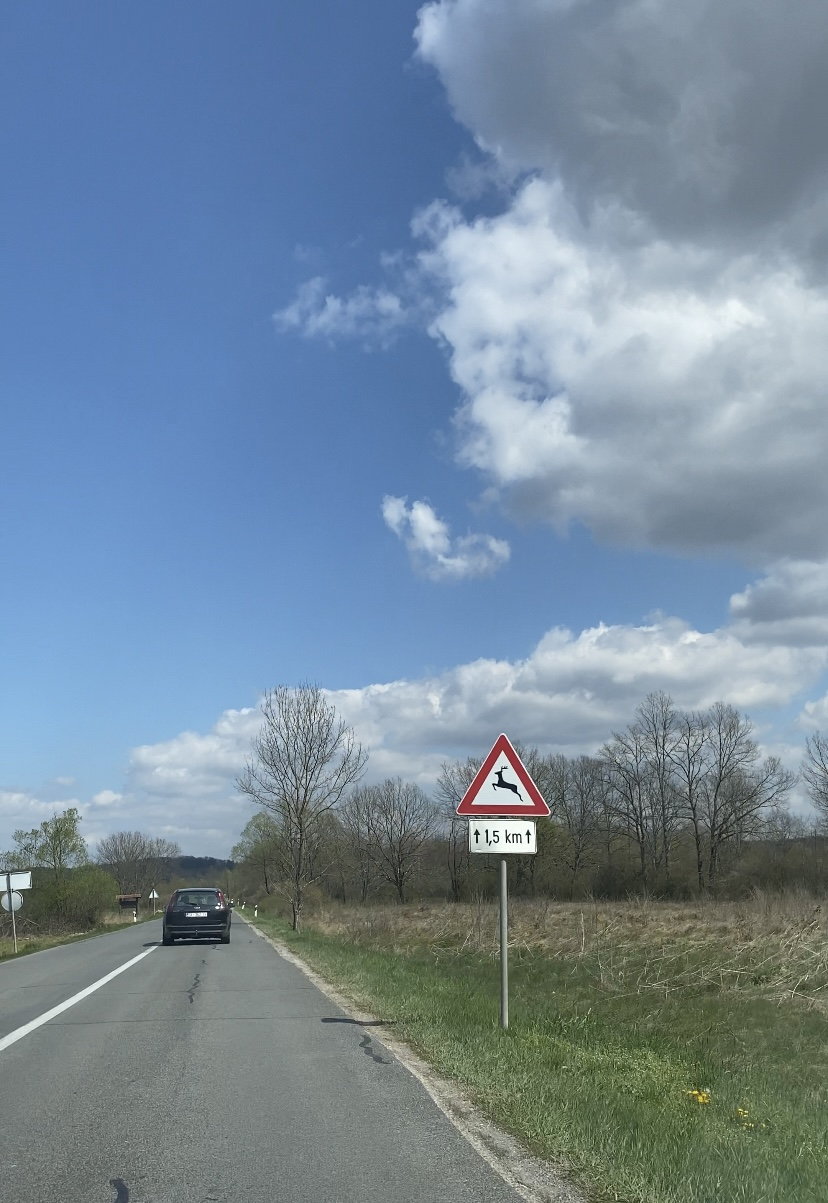Divljač na cesti: (456, 733, 551, 817)
